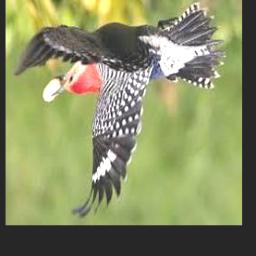Woodpecker: (14, 3, 226, 219)
